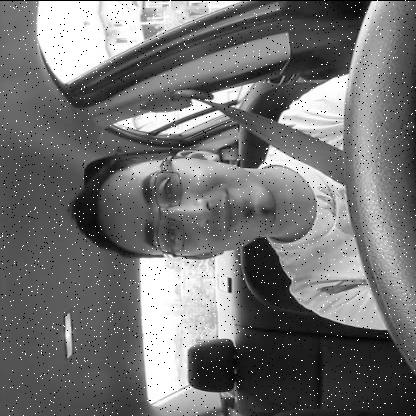seatbelt: (64, 82, 416, 272)
